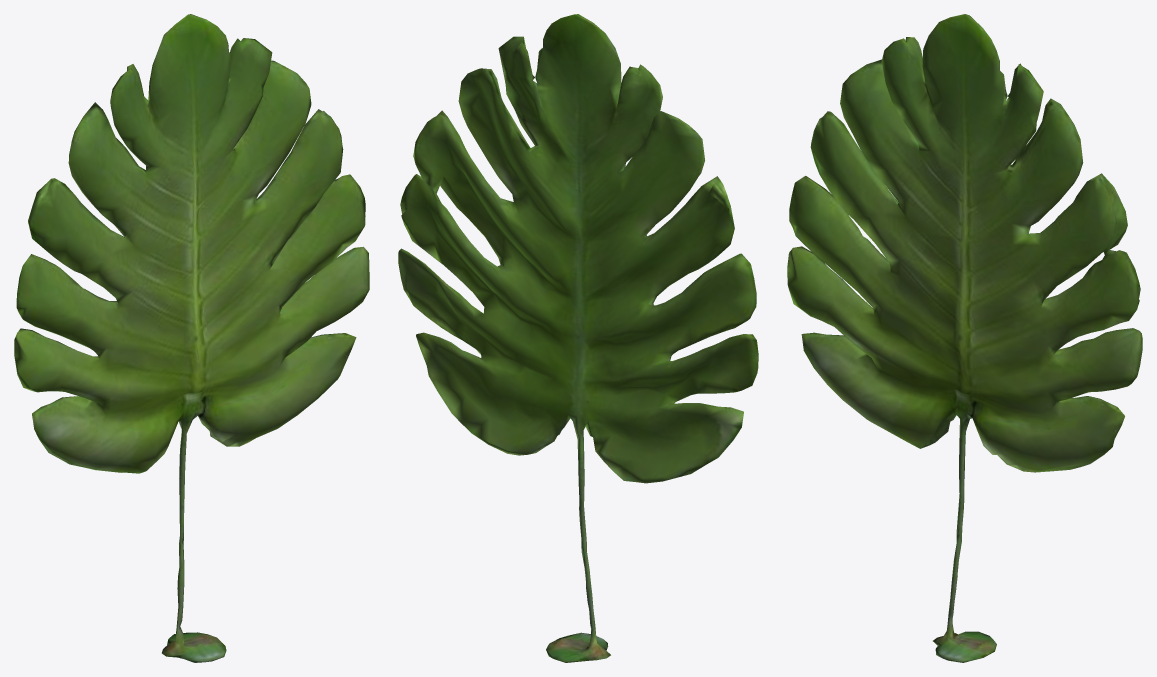
3 views of the same model, side by side, from view 1: azimuth 30°, elevation 25°; view 2: azimuth 150°, elevation 25°; view 3: azimuth 330°, elevation 25° (orthographic).
Visible parts, largest first — view 1: Mesh1.0; view 2: Mesh1.0; view 3: Mesh1.0.
Boxes of the visible parts, x1,y1,x2,y2 form: Mesh1.0: (14, 14, 369, 662); Mesh1.0: (398, 14, 758, 662); Mesh1.0: (787, 14, 1142, 662).
Bounding box in the file's own units: 1.18 × 2 × 0.1985.
1 material, 1 textured.
